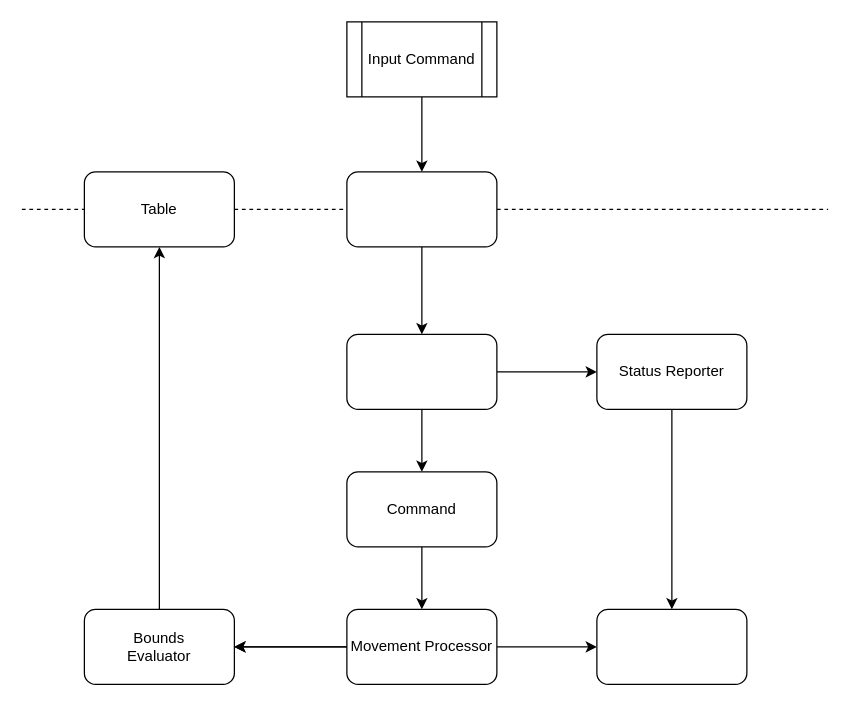
Image size: 851x706. Some labels were removed from this diagram. The centre of each missing label's shape, as x and y in pixels:
"Command Executor" goes at point (421, 371).
"Position Tracker" goes at point (671, 646).
"Robot" goes at point (421, 209).
